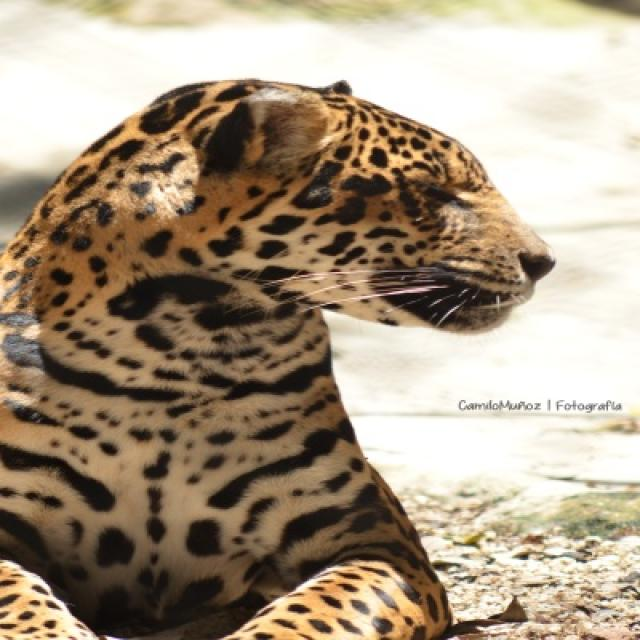Jaguar: (0, 78, 555, 638)
